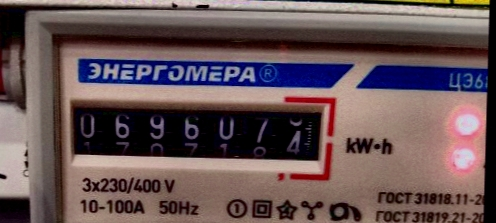0: (214, 112, 234, 143), (75, 112, 94, 140)
4: (283, 129, 299, 158)
6: (179, 113, 199, 143), (110, 112, 130, 140)
7: (250, 115, 268, 146)
9: (145, 113, 163, 142)
screen: (52, 84, 339, 181)
